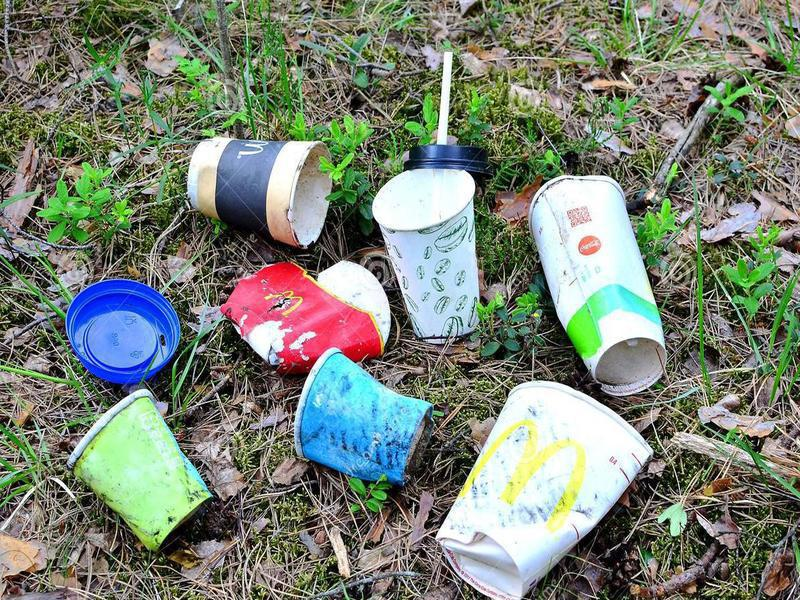cup: (433, 376, 657, 600), (525, 172, 671, 398), (54, 387, 225, 556), (368, 164, 502, 349), (280, 346, 437, 494), (215, 257, 393, 374), (183, 132, 339, 255)
